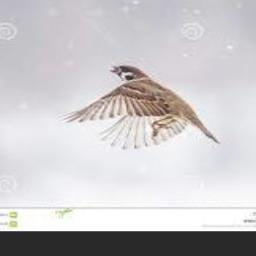Sparrow: (60, 65, 220, 149)
